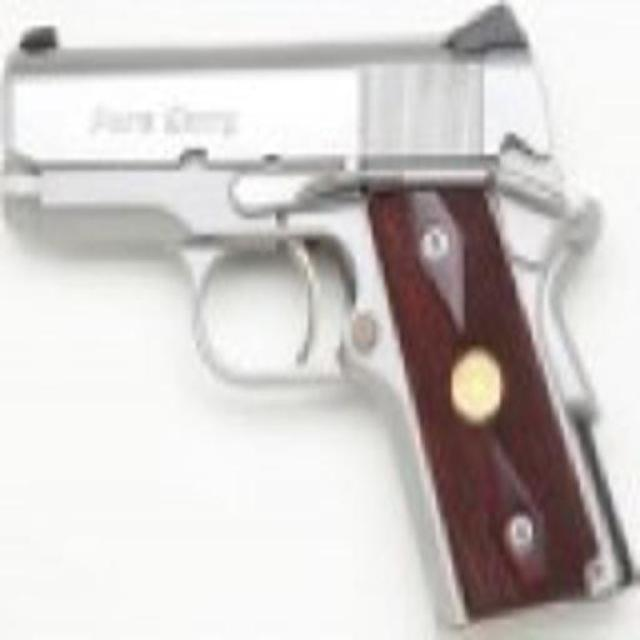pistol: (4, 15, 635, 617)
